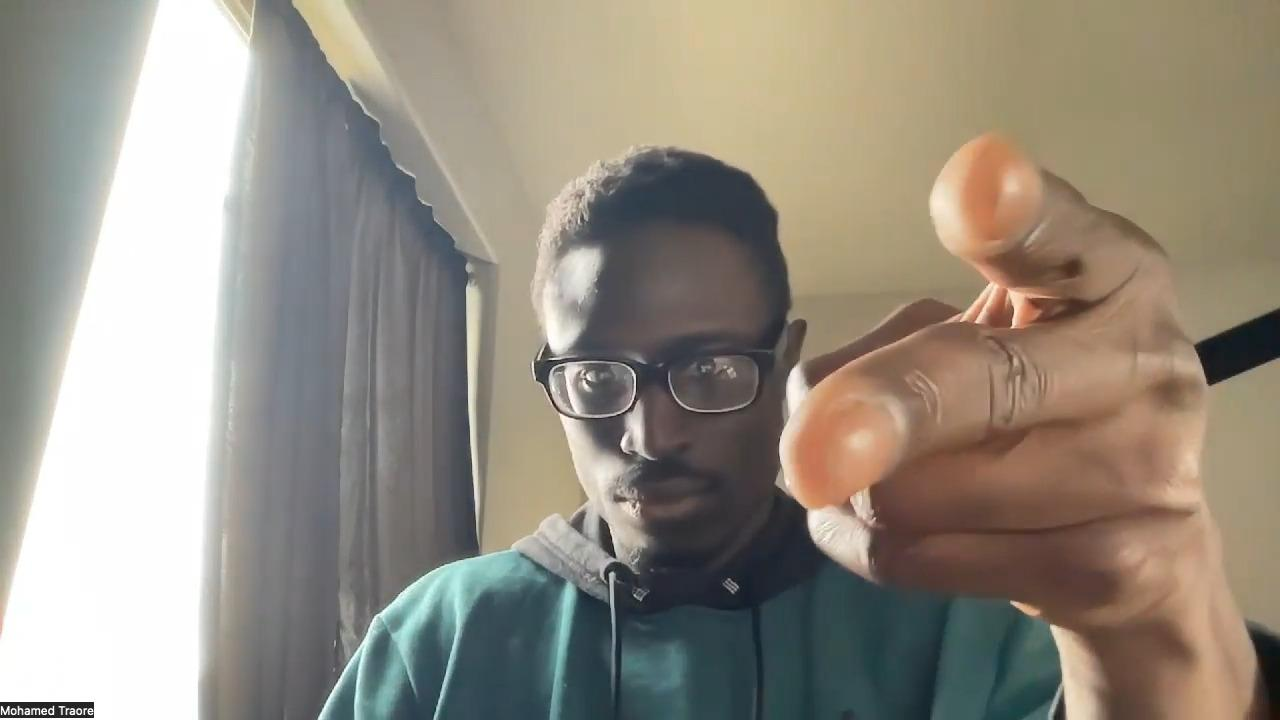Scissors: (775, 130, 1219, 640)
